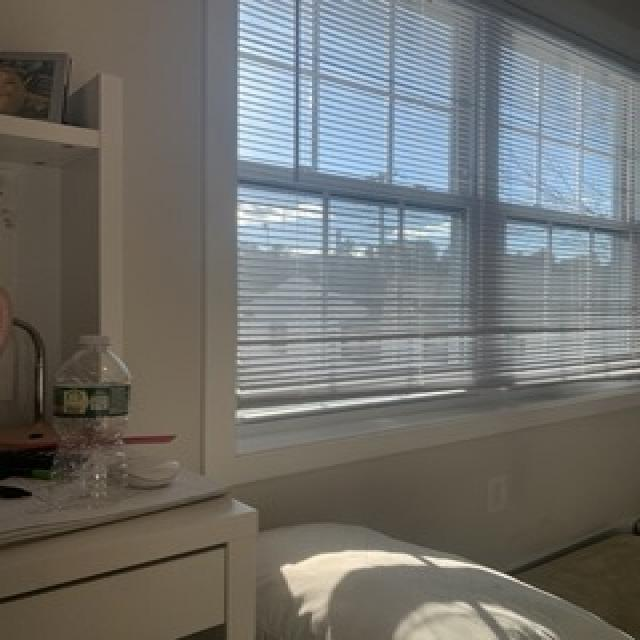water_bottle: (46, 332, 138, 517)
